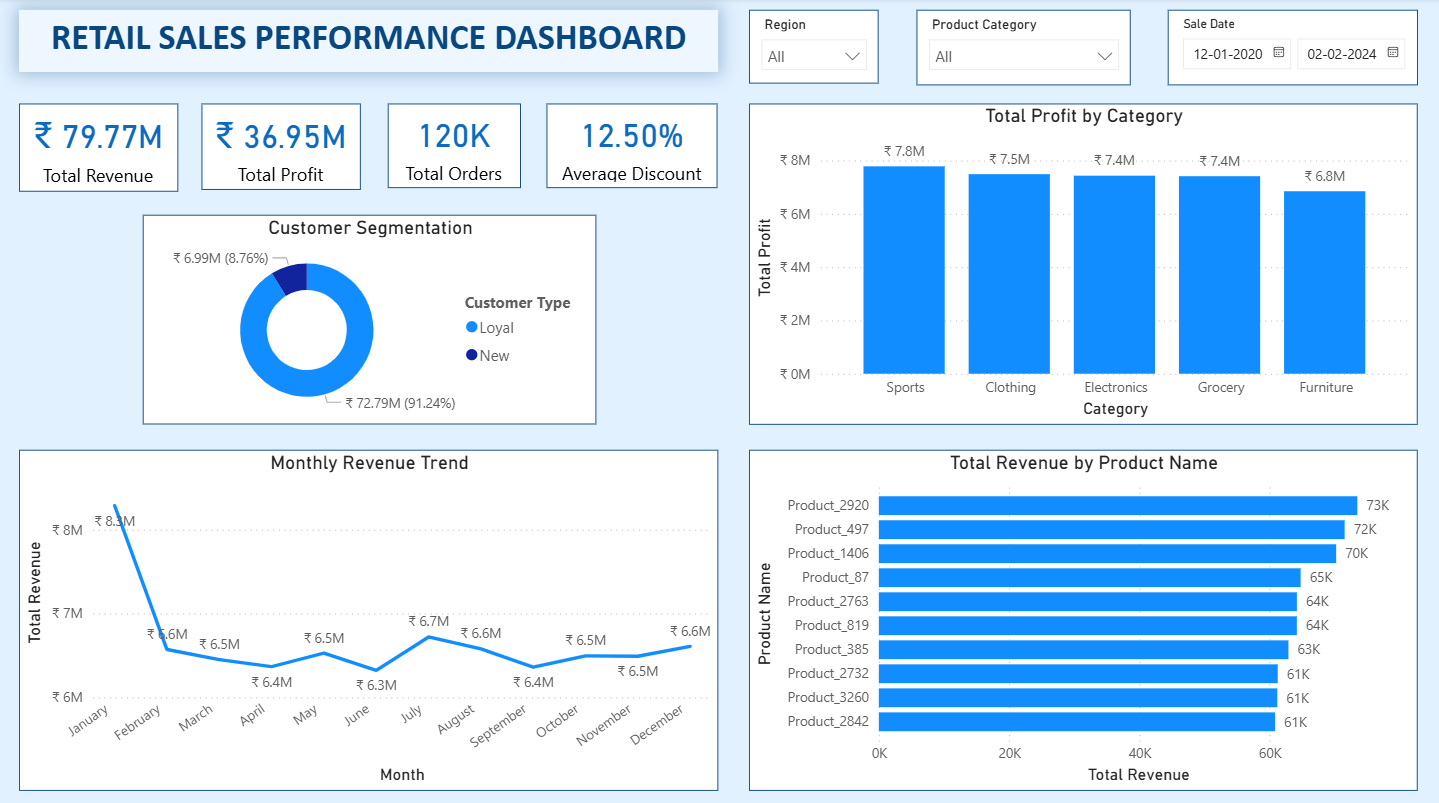

Layout of this report page (visuals, bound fields, positions):
{"tool":"powerbi","page":{"name":"Page 1","canvas":[1280,720],"ordinal":0},"visuals":[{"type":"card","fields":{"Values":["sales_large.Total Revenue"]},"box":[17.8,96.1,141.3,78.2],"z":0},{"type":"card","fields":{"Values":["sales_large.Total Profit"]},"box":[179.8,96.1,141.3,76.8],"z":1000},{"type":"card","fields":{"Values":["sales_large.Total Orders"]},"box":[345.8,96.1,118,75.5],"z":2000},{"type":"card","fields":{"Values":["sales_large.Average Discount"]},"box":[487.1,96.1,152.3,75.5],"z":3000},{"type":"lineChart","title":"Monthly Revenue Trend","fields":{"Y":["sales_large.Total Revenue"],"Category":["sales_large.sale_date.Variation.Date Hierarchy.Month","sales_large.sale_date.Variation.Date Hierarchy.Day"]},"box":[17.8,403.4,621.6,303.3],"z":4000},{"type":"slicer","title":"Top 10 Products by Revenue","fields":{"Values":["sales_large.sale_date"]},"box":[1038.8,12.3,222.3,67.2],"z":5000},{"type":"donutChart","title":"Customer Segmentation","fields":{"Y":["sales_large.Total Revenue"],"Category":["customers_large.customer_type"]},"box":[127.6,194.9,403.4,186.6],"z":6000},{"type":"columnChart","title":"Total Profit by Category","fields":{"Y":["sales_large.Total Profit"],"Category":["products_large.category"]},"box":[666.9,96.1,594.2,285.4],"z":7000},{"type":"textbox","box":[17.8,12.3,621.6,54.9],"z":8000},{"type":"slicer","fields":{"Values":["customers_large.region"]},"box":[666.9,12.3,115.3,65.9],"z":9000},{"type":"slicer","fields":{"Values":["products_large.category"]},"box":[815.1,12.3,190.7,67.2],"z":10000},{"type":"barChart","fields":{"Category":["products_large.product_name"],"Y":["sales_large.Total Revenue"]},"box":[666.9,403.4,594.2,303.3],"z":11000}]}

Visuals, with their boxes in screenshot pixels (x1, y1, x2, y2), scaled from the page's 1280x720 canvas onto the 1439x803 screenshot:
card - sales_large.Total Revenue: x1=20 y1=107 x2=179 y2=194
card - sales_large.Total Profit: x1=202 y1=107 x2=361 y2=193
card - sales_large.Total Orders: x1=389 y1=107 x2=521 y2=191
card - sales_large.Average Discount: x1=548 y1=107 x2=719 y2=191
"Monthly Revenue Trend" lineChart: x1=20 y1=450 x2=719 y2=788
"Top 10 Products by Revenue" slicer: x1=1168 y1=14 x2=1418 y2=89
"Customer Segmentation" donutChart: x1=143 y1=217 x2=597 y2=425
"Total Profit by Category" columnChart: x1=750 y1=107 x2=1418 y2=425
textbox: x1=20 y1=14 x2=719 y2=75
slicer - customers_large.region: x1=750 y1=14 x2=879 y2=87
slicer - products_large.category: x1=916 y1=14 x2=1131 y2=89
barChart - products_large.product_name x sales_large.Total Revenue: x1=750 y1=450 x2=1418 y2=788
